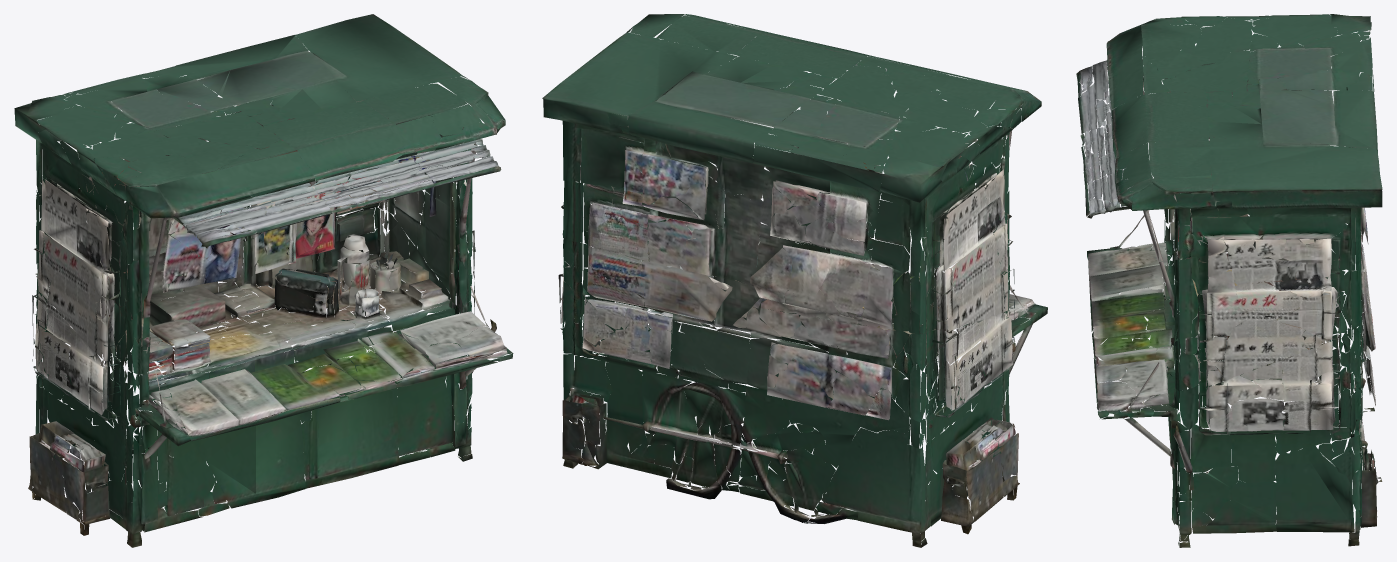
File: m_kiosk.glb
3 renders of one model, left to right at view 1: azimuth 30°, elevation 25°; view 2: azimuth 150°, elevation 25°; view 3: azimuth 270°, elevation 25°, orthographic. The views are drawn at different scales.
Visible parts, largest first — view 1: tripo_node_6b693e6d-9e70-4d9c-96b5-1a32e43b8b74; view 2: tripo_node_6b693e6d-9e70-4d9c-96b5-1a32e43b8b74; view 3: tripo_node_6b693e6d-9e70-4d9c-96b5-1a32e43b8b74.
Boxes of the visible parts, bbox=[...] form: tripo_node_6b693e6d-9e70-4d9c-96b5-1a32e43b8b74: bbox=[14, 14, 513, 547]; tripo_node_6b693e6d-9e70-4d9c-96b5-1a32e43b8b74: bbox=[542, 14, 1047, 547]; tripo_node_6b693e6d-9e70-4d9c-96b5-1a32e43b8b74: bbox=[1076, 14, 1382, 547].
Bounding box in the file's own units: 2.18 × 1.93 × 1.47.
1 material, 1 textured.
